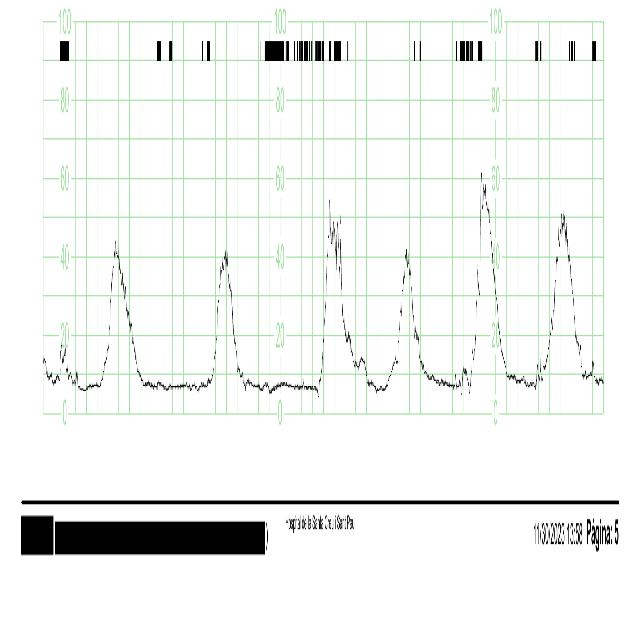contraction: (468, 176, 504, 388), (541, 200, 585, 368), (318, 210, 351, 392), (100, 239, 138, 390), (388, 251, 422, 384), (210, 247, 238, 378)
